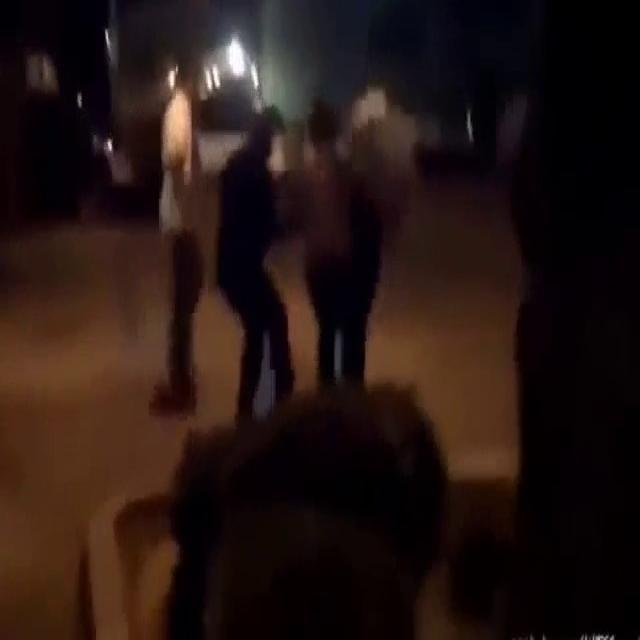non_violence: (161, 59, 204, 304)
violence: (218, 99, 382, 348)
